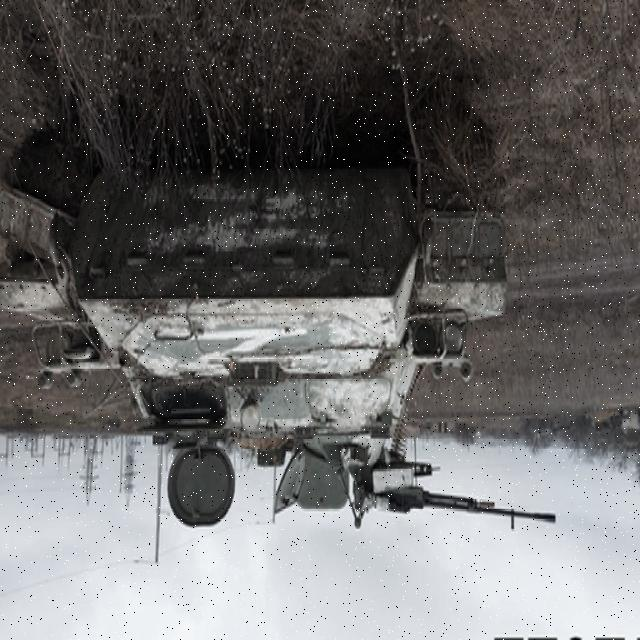APC-IFV: (29, 98, 566, 562)
